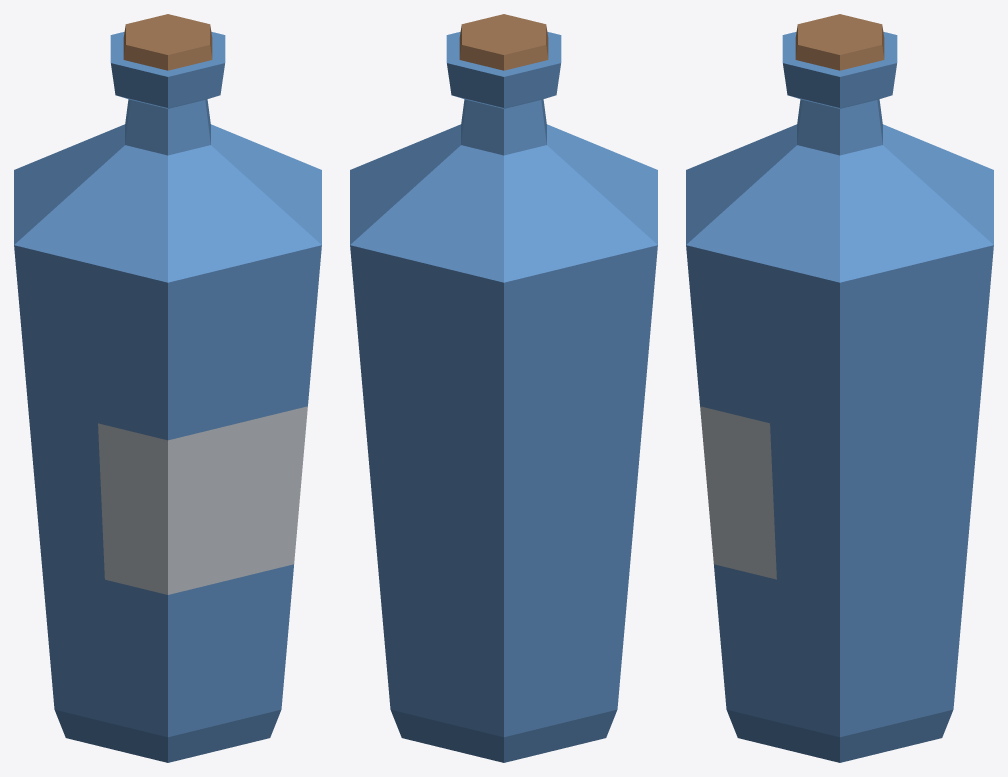
Rendered from Blue_Potion_13(Label).fbx.
The picture shows the model from 3 angles, left to right: view 1: azimuth 30°, elevation 25°; view 2: azimuth 150°, elevation 25°; view 3: azimuth 270°, elevation 25°; orthographic projection.
Parts seen in each view (by area): view 1: Blue_Potion_13(Label); view 2: Blue_Potion_13(Label); view 3: Blue_Potion_13(Label).
Boxes of the visible parts, x1,y1,x2,y2 form: Blue_Potion_13(Label): [14, 14, 321, 762]; Blue_Potion_13(Label): [350, 14, 657, 762]; Blue_Potion_13(Label): [686, 14, 993, 762].
Bounding box in the file's own units: 17.9 × 37.69 × 15.5.
